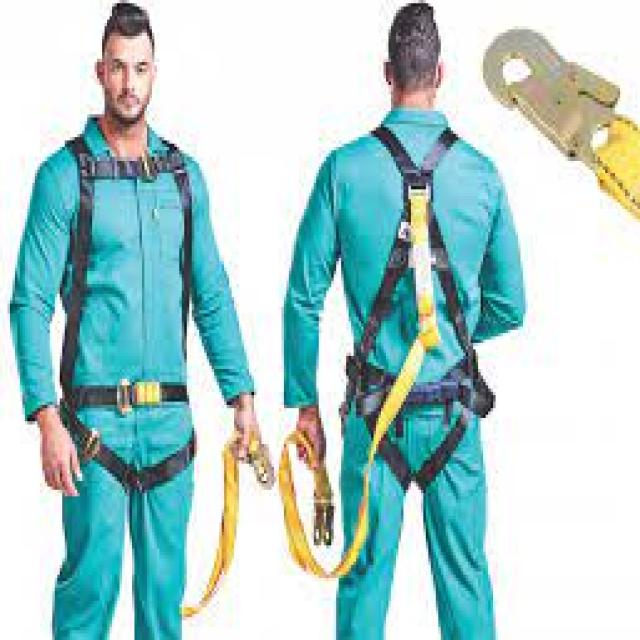harness: (271, 195, 439, 593), (182, 436, 282, 634)
